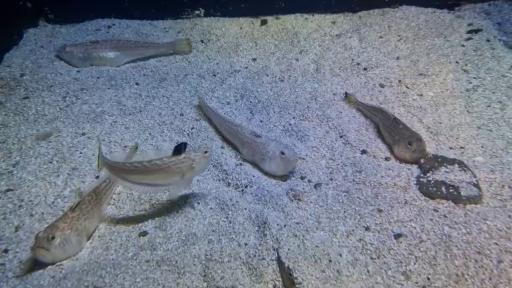Fish: (31, 174, 118, 264), (199, 97, 298, 176), (98, 138, 211, 191), (345, 92, 427, 163), (56, 38, 191, 67), (276, 249, 296, 287), (172, 142, 187, 155)
